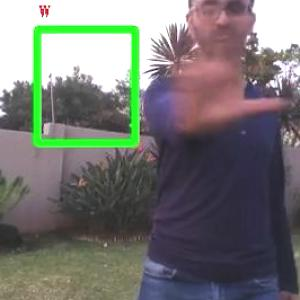follow_hand: (152, 1, 293, 138)
